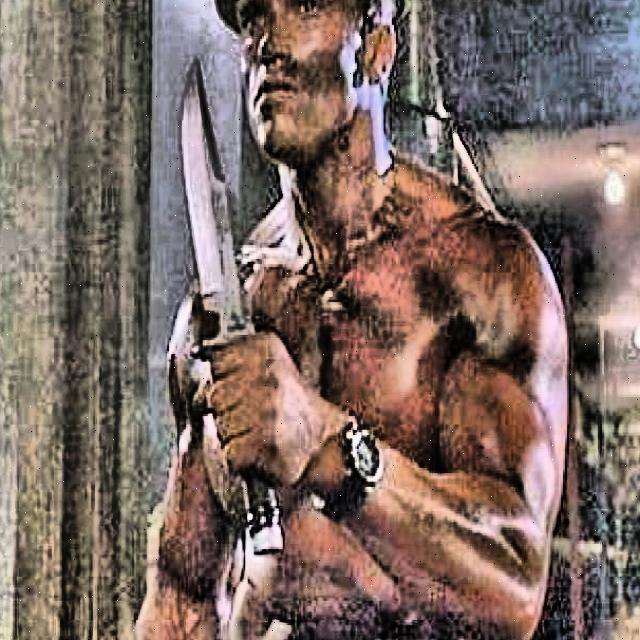knife: (182, 62, 284, 556)
